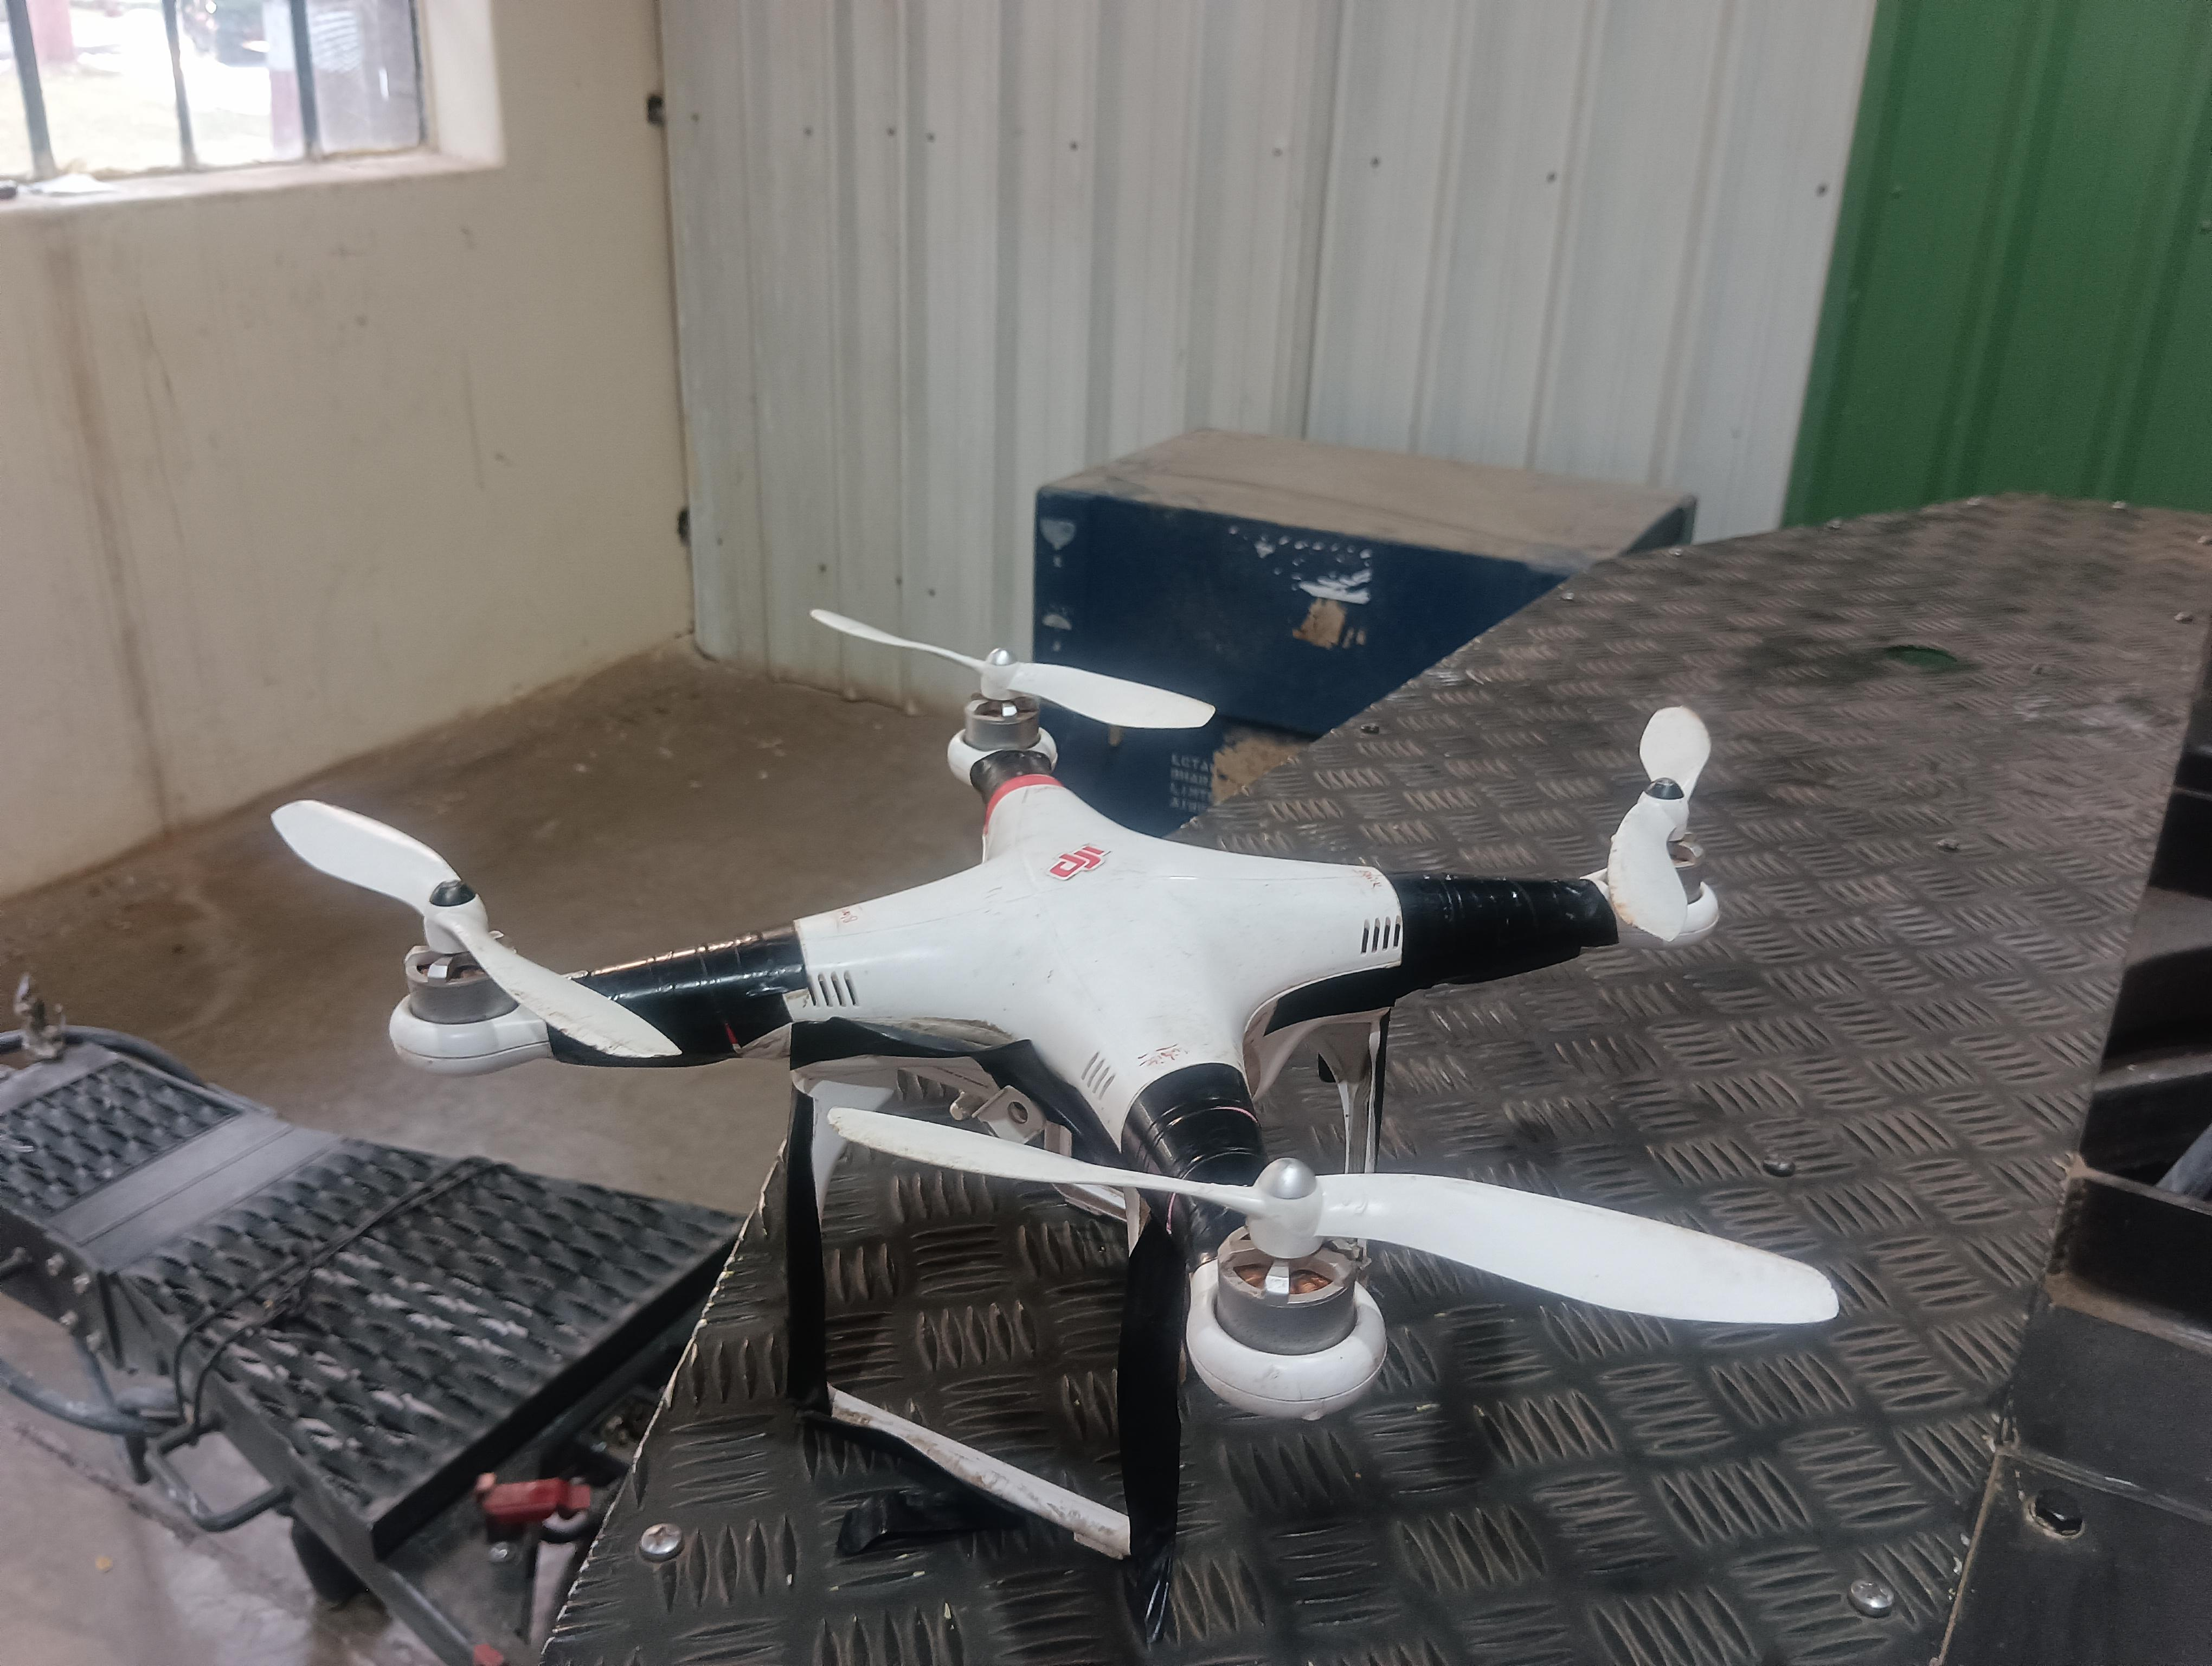drone: (206, 571, 1880, 1628)
